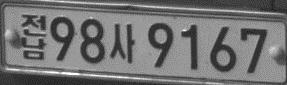1: (177, 23, 206, 69)
6: (209, 26, 236, 72)
7: (239, 27, 267, 73)
8: (78, 17, 105, 63)
9: (146, 21, 173, 67), (49, 15, 75, 61)
사: (108, 23, 135, 64)
전남_V: (19, 13, 47, 60)
